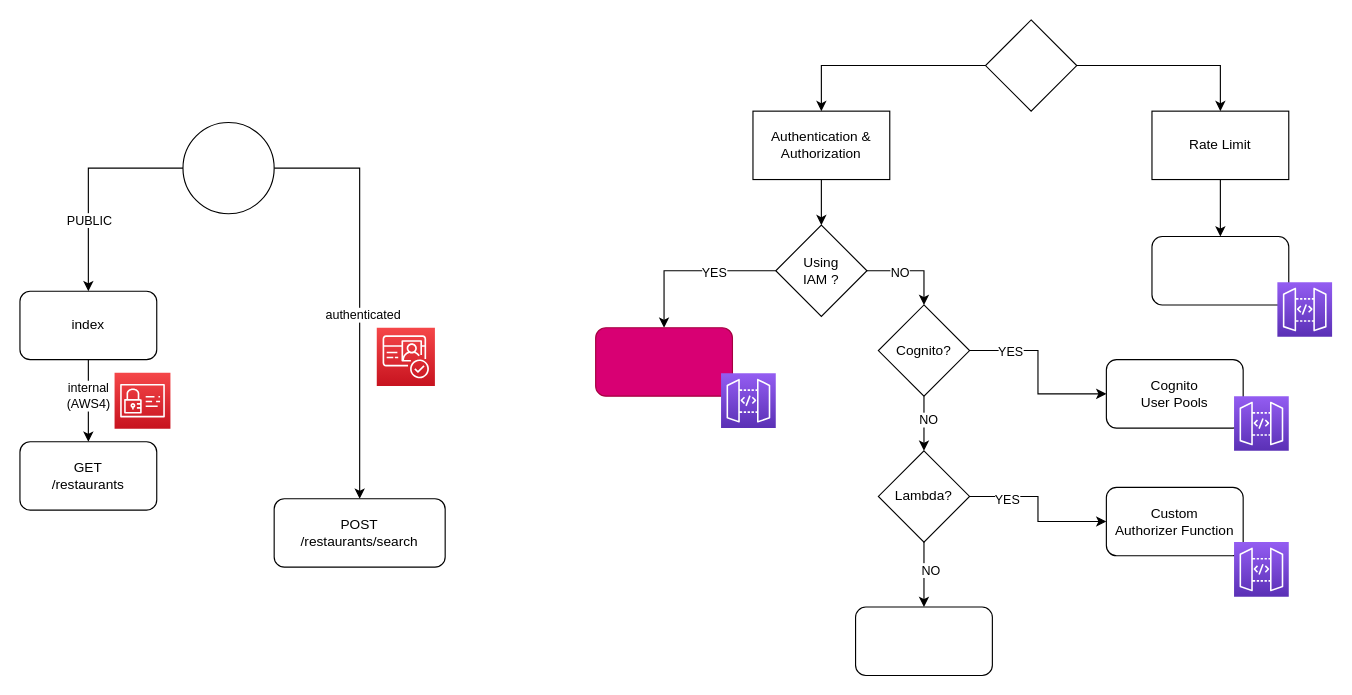
This 1352x695 diagram has some shape labels left out. Here are the shapes that lost their labels. From the top down, the box of each, then its label:
(984, 19, 1077, 111): Secure API
(182, 121, 274, 214): www
(1151, 235, 1289, 305): API Keys + Usage Plans
(595, 327, 732, 396): AWS IAM
(854, 606, 992, 675): Authentication in endpoint
